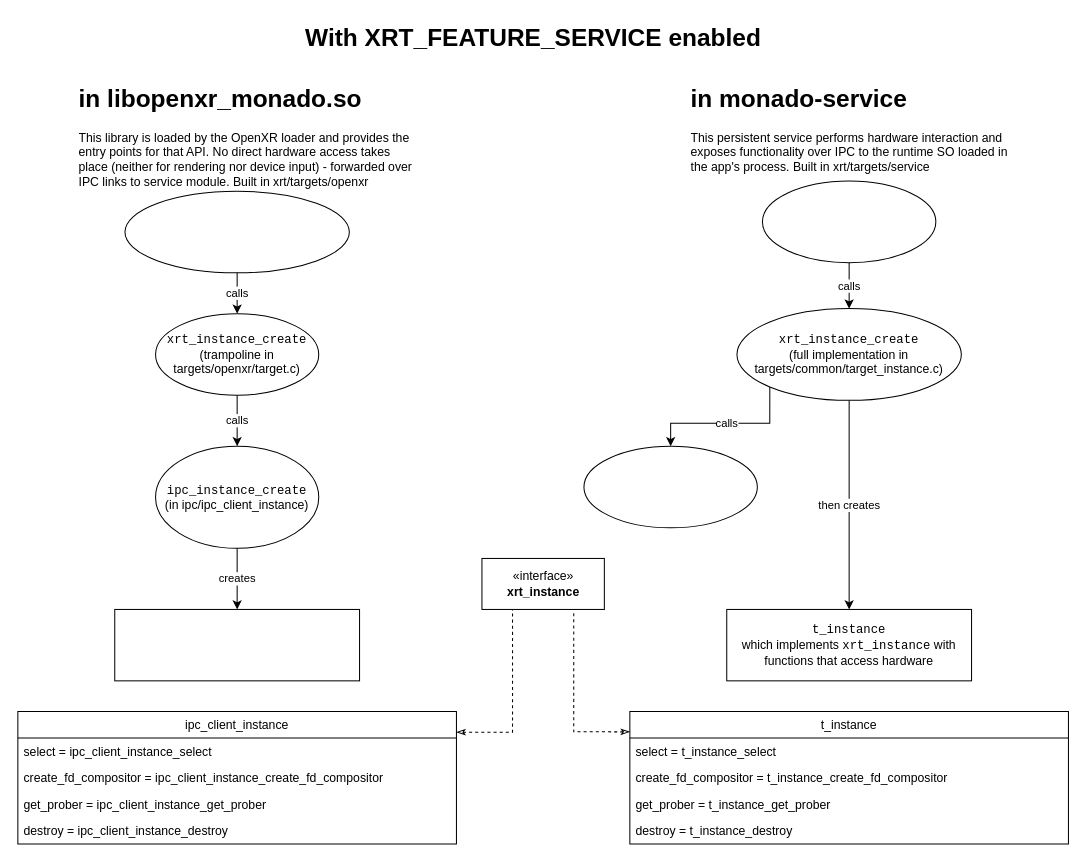
The diagram is 1086 pixels wide and 864 high, and some of its shapes have lost their labels. Here are the shapes that lost their labels. From the top down, the box of each, then its label:
(124, 190, 349, 273): xrCreateInstance (in state_trackers/oxr/oxr_instance.c)
(761, 180, 936, 263): init_all() (in ipc/ipc_server_process.c)
(583, 445, 757, 528): a real xrt_prober_create (in targets/service/main.c)
(114, 608, 360, 681): ipc_client_instance which implements xrt_instance with client proxy functions
